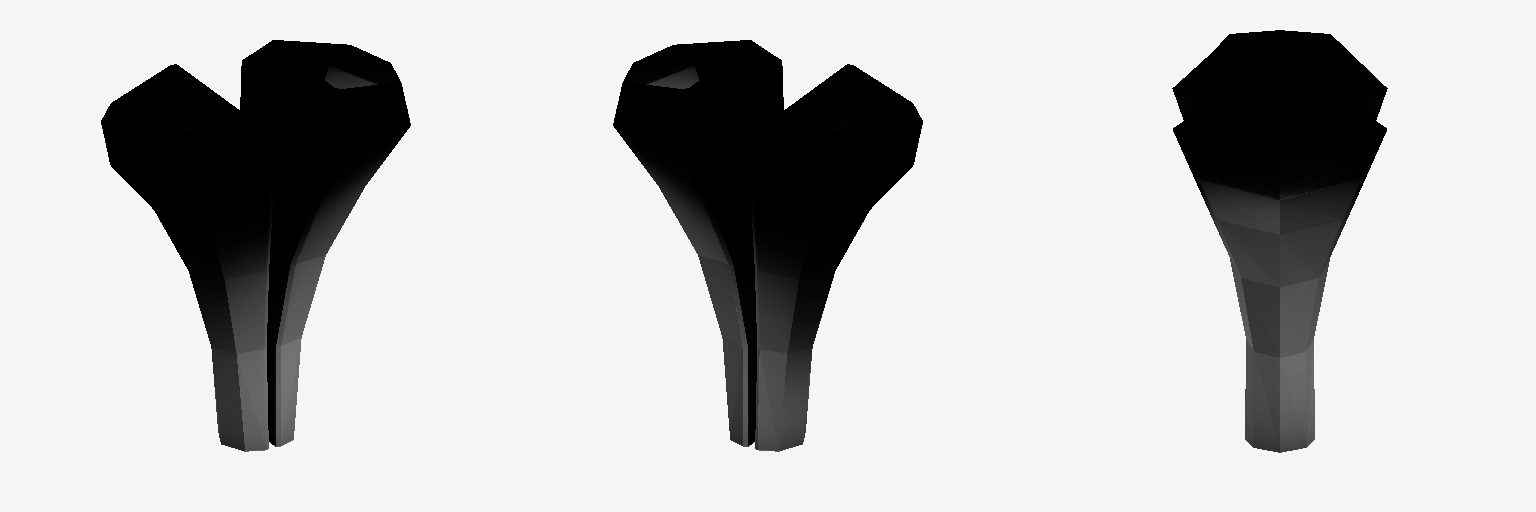
3 views of the same model, side by side, from view 1: azimuth 30°, elevation 25°; view 2: azimuth 150°, elevation 25°; view 3: azimuth 270°, elevation 25° (orthographic).
Visible parts, largest first — view 1: concrete (2); view 2: concrete (2); view 3: concrete (2).
Boxes of the visible parts, <box> form: concrete (2): <box>101,40,410,451</box>; concrete (2): <box>613,40,922,451</box>; concrete (2): <box>1172,30,1387,452</box>.
Bounding box in the file's own units: 1.61 × 1.9 × 1.03.
Materials: 1 (1 with a texture image).